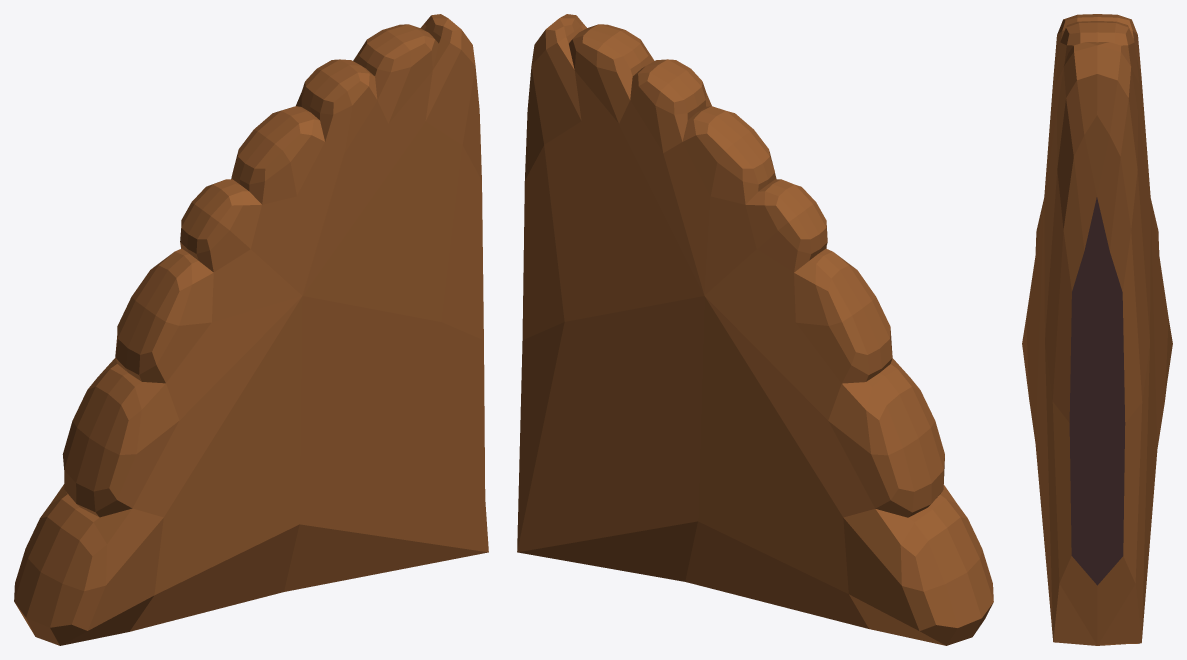
File: CheburekLeft.fbx
3 views of the same model, side by side, from view 1: azimuth 30°, elevation 25°; view 2: azimuth 150°, elevation 25°; view 3: azimuth 270°, elevation 25° (orthographic). The views are drawn at different scales.
Parts seen in each view (by area): view 1: КубЛев.001; view 2: КубЛев.001; view 3: КубЛев.001.
Boxes of the visible parts, x1,y1,x2,y2 form: КубЛев.001: (14, 14, 488, 645); КубЛев.001: (517, 14, 993, 645); КубЛев.001: (1022, 14, 1172, 645).
Size of the model in its own units: 323 by 367 by 85.16.
